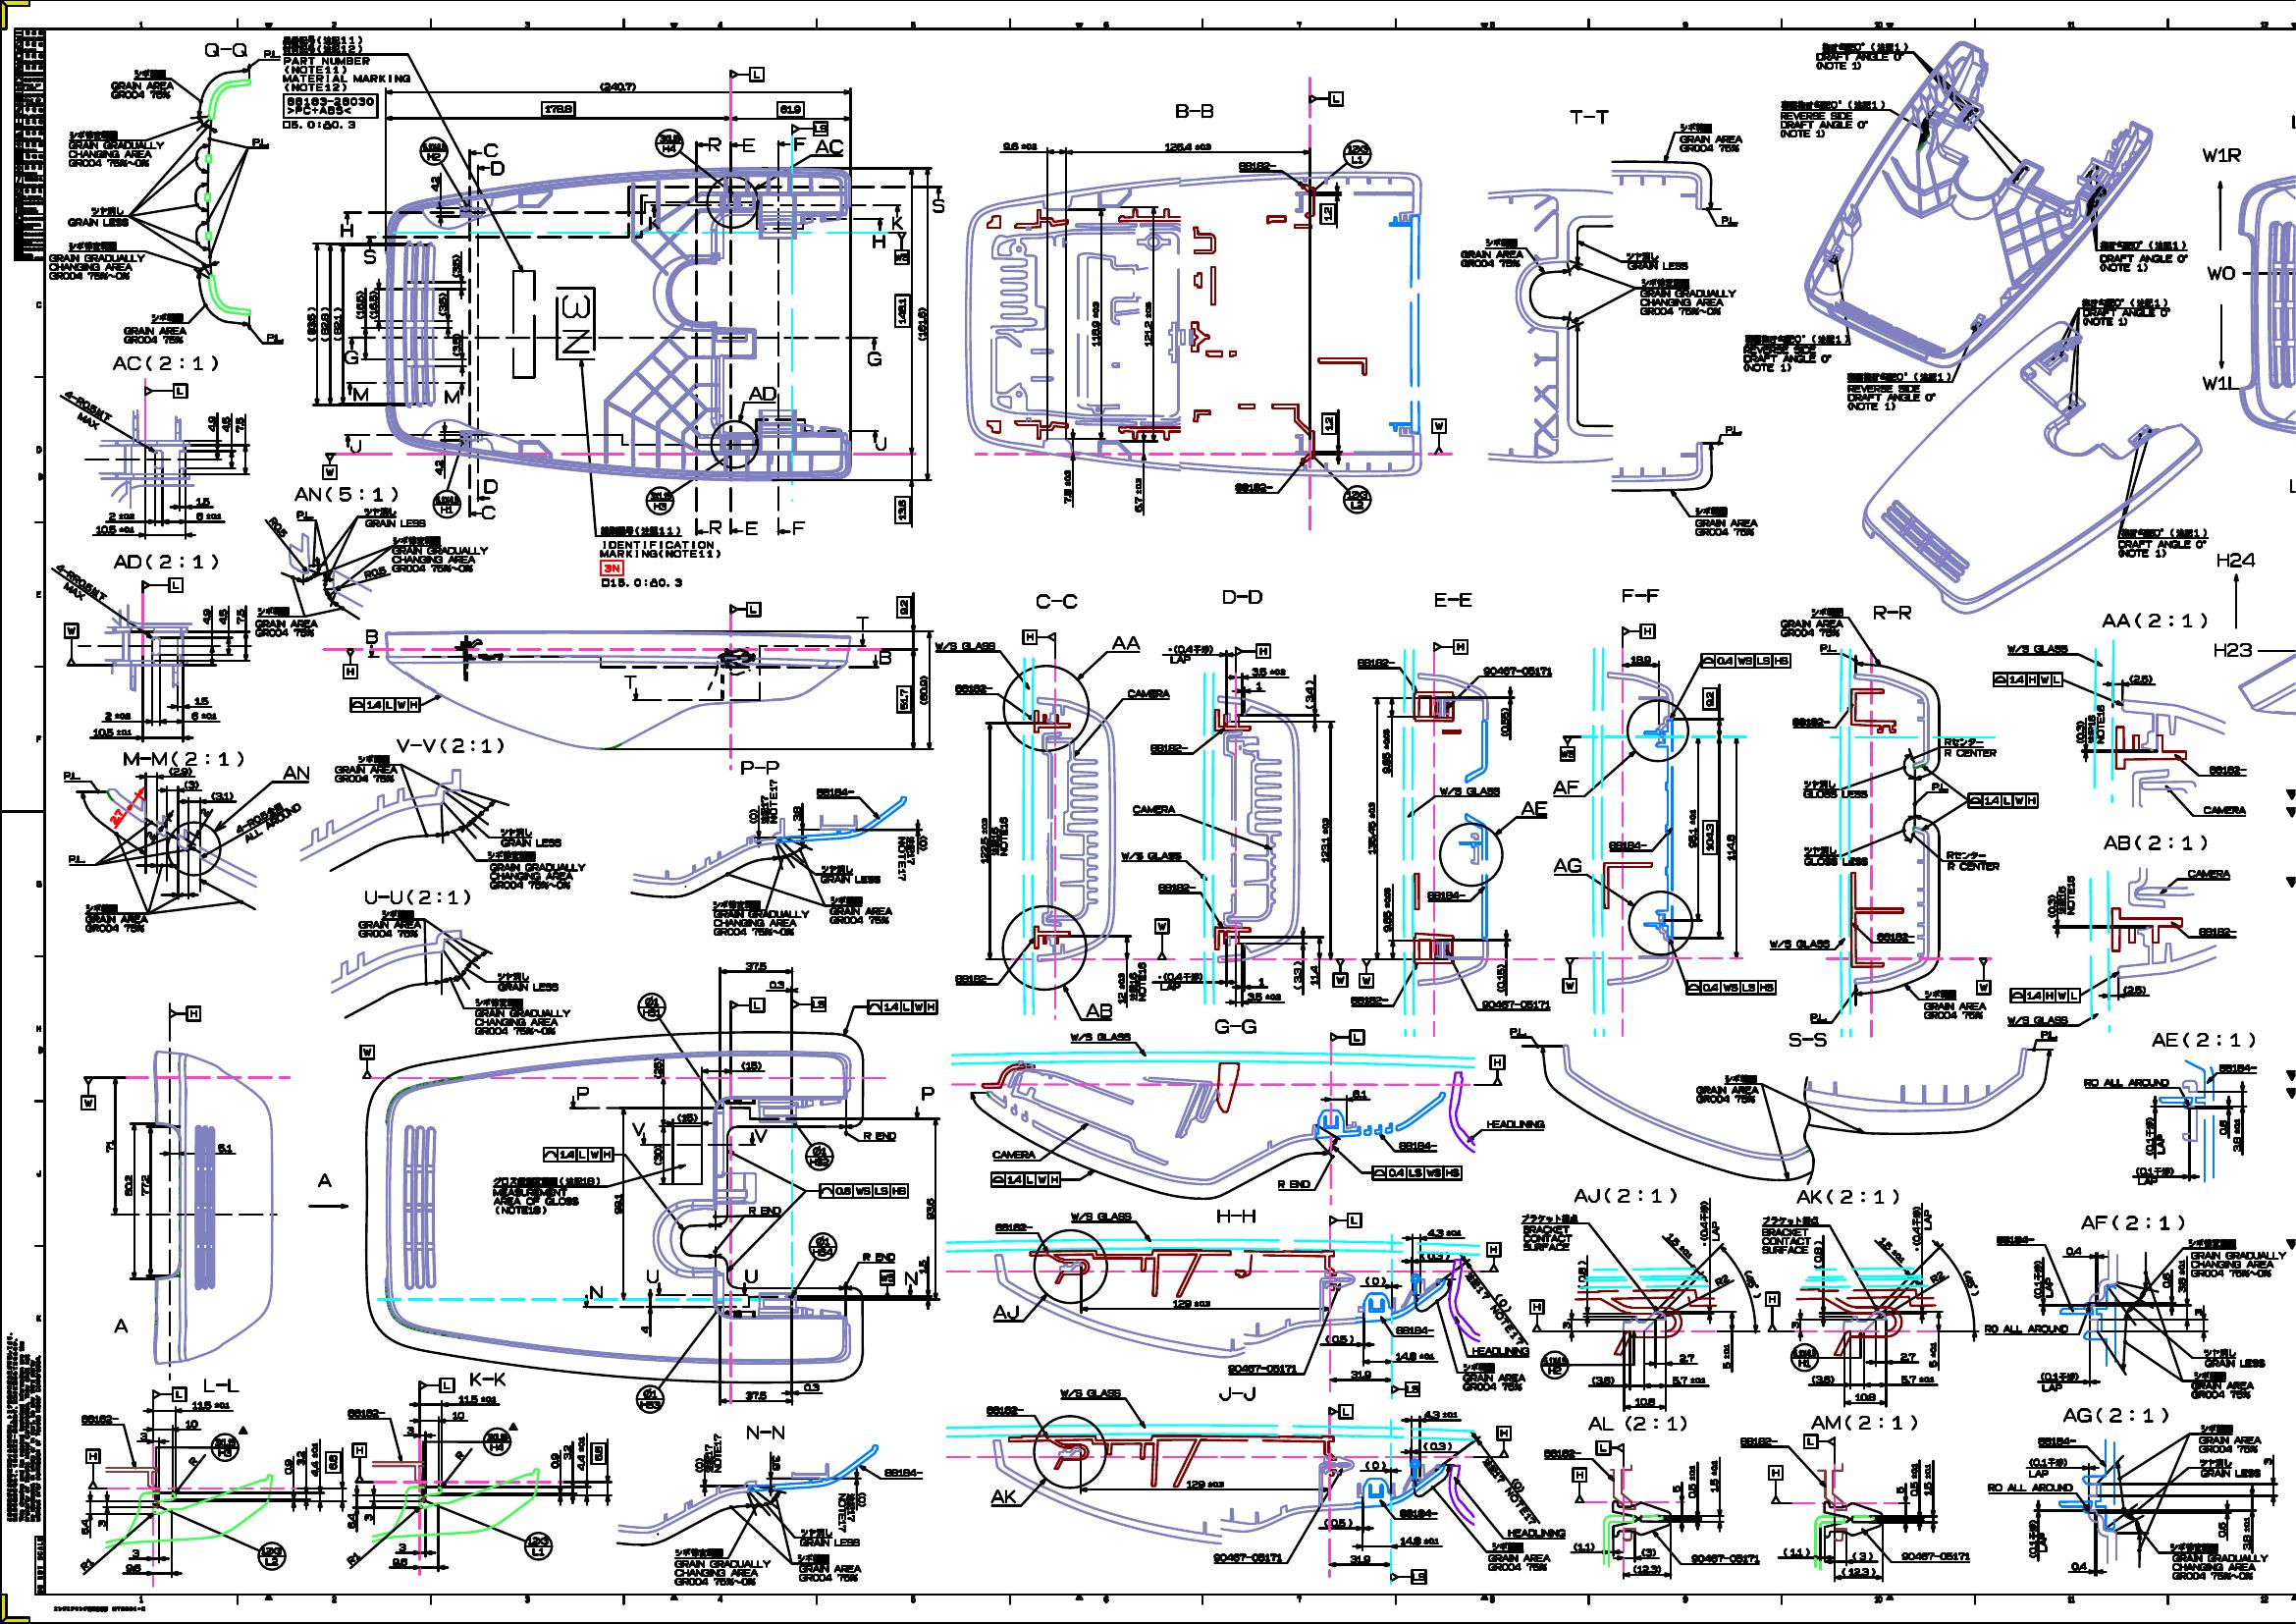anntotation_text: (281, 35, 411, 128), (2201, 146, 2242, 390), (4, 1332, 44, 1526), (599, 524, 720, 587), (1846, 371, 1952, 415), (2213, 550, 2256, 659), (494, 1176, 601, 1216), (1780, 98, 1885, 139), (1743, 332, 1848, 373), (487, 851, 590, 891), (2189, 1237, 2287, 1280), (2168, 1541, 2270, 1582), (67, 128, 165, 169), (47, 241, 146, 281), (673, 1547, 771, 1585), (390, 534, 488, 573), (1639, 278, 1736, 316), (473, 998, 571, 1035), (711, 900, 810, 937), (2117, 526, 2208, 559), (1815, 40, 1910, 72), (2099, 239, 2189, 272), (2080, 297, 2171, 325), (119, 749, 244, 768), (1521, 1213, 1579, 1253), (362, 886, 471, 907), (1693, 1072, 1758, 1106), (109, 353, 220, 373), (1760, 1216, 1818, 1253), (1679, 121, 1743, 155), (1693, 506, 1758, 538), (255, 606, 320, 638), (2080, 1213, 2185, 1232), (2105, 831, 2208, 851), (1797, 1188, 1901, 1207), (123, 313, 186, 344), (1780, 606, 1843, 638), (796, 1552, 863, 1582), (107, 69, 174, 98), (1924, 988, 1989, 1018), (1458, 237, 1523, 267), (355, 909, 420, 939), (112, 554, 221, 571), (395, 736, 504, 754), (2061, 1406, 2170, 1424), (1809, 1413, 1918, 1431), (84, 902, 148, 932), (2198, 1422, 2261, 1452), (293, 485, 399, 503), (1488, 1541, 1549, 1571), (1463, 1362, 1525, 1392), (1572, 1186, 1676, 1204), (334, 754, 397, 782), (829, 895, 892, 923), (2191, 1371, 2254, 1399), (1588, 1415, 1688, 1432), (2099, 613, 2208, 629), (2150, 1032, 2257, 1048), (2201, 1346, 2270, 1369), (232, 808, 302, 830), (1372, 1165, 1463, 1181), (364, 506, 427, 529), (211, 1425, 249, 1462), (1700, 652, 1790, 668), (819, 1183, 908, 1199), (69, 206, 130, 228), (1802, 847, 1867, 868), (1802, 779, 1867, 800), (54, 399, 114, 422), (480, 1422, 520, 1455), (1627, 250, 1690, 271), (499, 826, 562, 847), (991, 1169, 1059, 1188), (497, 972, 559, 993), (1449, 1302, 1541, 1316), (866, 998, 938, 1016), (2010, 986, 2082, 1004), (47, 576, 107, 598), (1945, 849, 1999, 872), (1941, 738, 1999, 759), (1983, 1320, 2069, 1334), (799, 1527, 861, 1547), (2199, 1457, 2261, 1476), (820, 865, 880, 884), (541, 1146, 613, 1162), (1992, 671, 2062, 687), (1686, 981, 1776, 993), (1967, 793, 2036, 808), (1699, 1199, 1722, 1246), (255, 1541, 290, 1571), (2031, 1258, 2055, 1301), (51, 1603, 146, 1613), (1166, 643, 1214, 664), (1788, 1341, 1820, 1373), (350, 698, 420, 712), (1460, 1483, 1551, 1494), (522, 1531, 553, 1561), (430, 490, 462, 520), (634, 1383, 666, 1413), (1342, 139, 1374, 169), (1340, 483, 1372, 513), (1911, 1206, 1932, 1250), (1031, 591, 1079, 610), (759, 777, 778, 824), (896, 835, 915, 882), (418, 135, 448, 165), (645, 485, 675, 515), (1539, 1350, 1569, 1380), (1126, 960, 1147, 1002), (638, 991, 666, 1023), (806, 1232, 838, 1260), (2083, 1077, 2168, 1088), (2027, 1519, 2048, 1561), (1690, 1552, 1762, 1564), (2145, 1116, 2166, 1156), (2027, 1457, 2068, 1478), (1158, 970, 1202, 990), (2057, 872, 2076, 916), (805, 1141, 833, 1171), (653, 128, 683, 156), (32, 1536, 46, 1594), (2040, 1371, 2078, 1392), (703, 1432, 722, 1473), (836, 1492, 856, 1533), (991, 816, 1010, 856), (1059, 1387, 1123, 1399), (1214, 1018, 1258, 1035), (1172, 102, 1216, 120), (1567, 107, 1611, 125), (1987, 1482, 2075, 1490), (350, 1443, 367, 1485), (1226, 1362, 1296, 1373), (1620, 587, 1662, 605), (1481, 998, 1551, 1009), (1433, 591, 1476, 608), (1899, 1552, 1969, 1562), (1507, 1526, 1567, 1538), (1214, 1552, 1282, 1562), (200, 1376, 241, 1394), (2089, 703, 2106, 743), (743, 1425, 787, 1441), (1214, 1207, 1258, 1223), (204, 40, 248, 56), (1871, 605, 1915, 620), (1221, 589, 1265, 605), (63, 622, 79, 666), (2134, 1167, 2173, 1185), (84, 1446, 100, 1489), (1216, 1387, 1258, 1403), (1154, 917, 1170, 960), (2006, 643, 2069, 654), (2004, 1014, 2068, 1025), (935, 640, 998, 650), (141, 576, 183, 592), (1788, 1032, 1830, 1048), (151, 1385, 188, 1403), (1390, 1568, 1426, 1585), (1769, 939, 1830, 949), (1439, 786, 1500, 796), (1484, 1118, 1546, 1128), (740, 759, 780, 775), (1481, 666, 1553, 675), (144, 383, 188, 397), (1309, 90, 1344, 107), (469, 1371, 508, 1387), (1767, 1464, 1783, 1503), (1330, 1211, 1363, 1229), (1621, 622, 1655, 640), (1528, 1299, 1546, 1332), (1432, 638, 1469, 654), (1235, 642, 1272, 657), (1432, 418, 1448, 455), (79, 1411, 119, 1425), (1790, 715, 1830, 729), (1764, 1292, 1778, 1332), (1560, 958, 1576, 993), (1330, 1028, 1365, 1044), (1119, 851, 1182, 859), (729, 997, 764, 1012), (791, 997, 826, 1012), (1070, 1211, 1133, 1220), (1068, 1032, 1131, 1040), (169, 1005, 200, 1023), (1572, 1468, 1588, 1503), (954, 682, 993, 696), (79, 1076, 95, 1109), (1022, 629, 1056, 645), (987, 1487, 1017, 1504), (1391, 1380, 1421, 1397), (813, 139, 843, 156), (416, 1378, 453, 1392), (360, 1044, 374, 1081), (993, 1220, 1035, 1232), (791, 121, 827, 135), (1472, 1346, 1530, 1355), (1490, 1053, 1505, 1084), (1802, 1434, 1834, 1450), (815, 786, 856, 798), (1542, 1446, 1583, 1459), (748, 383, 776, 401), (729, 67, 764, 81), (1551, 779, 1579, 796), (1558, 735, 1576, 763), (727, 601, 762, 615), (991, 1148, 1036, 1158), (1551, 858, 1581, 874), (1332, 958, 1347, 988), (1084, 1002, 1114, 1018), (281, 765, 311, 780), (1976, 960, 1990, 993), (894, 232, 908, 265), (2203, 805, 2247, 816), (1358, 958, 1374, 986), (1112, 634, 1140, 650), (1131, 803, 1173, 814), (1156, 882, 1198, 893), (880, 1269, 896, 1297), (991, 1304, 1019, 1320), (2036, 1436, 2078, 1446), (346, 1408, 386, 1418), (984, 1404, 1024, 1415), (1397, 1141, 1437, 1151), (1607, 840, 1648, 851), (1349, 995, 1390, 1005), (1233, 482, 1274, 492), (2208, 765, 2249, 775), (1996, 1234, 2036, 1244), (1486, 1241, 1500, 1271), (343, 649, 357, 678), (321, 453, 337, 480), (1521, 800, 1548, 816), (1876, 932, 1915, 942), (1426, 889, 1465, 900), (1149, 742, 1188, 752), (1237, 160, 1275, 170), (1595, 1441, 1623, 1455), (1497, 1425, 1509, 1457), (1275, 1178, 1312, 1188), (864, 1128, 896, 1141), (1126, 689, 1170, 698), (2187, 868, 2231, 877), (2217, 1063, 2259, 1072), (1330, 1404, 1353, 1420), (952, 974, 993, 982), (1739, 1436, 1780, 1445), (863, 1251, 896, 1262), (884, 1468, 922, 1476), (1395, 1325, 1433, 1334), (2198, 926, 2236, 935), (1356, 657, 1393, 666), (337, 221, 355, 239), (747, 1206, 782, 1214), (743, 1267, 761, 1285), (316, 1171, 332, 1190), (344, 348, 360, 366), (488, 160, 504, 178), (348, 438, 364, 455), (481, 478, 497, 496), (481, 503, 497, 520), (741, 520, 757, 538), (875, 436, 891, 453), (889, 214, 905, 232), (931, 197, 947, 214), (704, 135, 720, 153), (740, 137, 757, 153), (791, 135, 806, 153), (112, 1316, 128, 1334), (752, 1127, 769, 1142), (903, 1269, 919, 1287), (364, 627, 379, 645), (362, 250, 378, 265), (353, 387, 369, 402), (444, 388, 460, 404), (483, 141, 499, 156), (706, 520, 722, 536), (791, 518, 806, 534), (868, 350, 884, 366), (871, 232, 887, 248), (631, 1120, 646, 1135), (645, 1267, 661, 1283), (588, 1285, 604, 1301), (856, 615, 871, 631), (877, 650, 892, 666), (624, 673, 639, 689), (67, 852, 86, 865), (2040, 1028, 2059, 1040), (249, 137, 271, 148), (265, 332, 286, 343), (1818, 642, 1839, 652), (574, 1084, 588, 1100), (262, 49, 281, 60), (1720, 214, 1739, 225), (295, 510, 314, 520), (921, 1086, 935, 1100), (1725, 424, 1743, 434), (1507, 1026, 1527, 1035), (61, 772, 81, 780), (1931, 782, 1948, 791), (1351, 1090, 1367, 1098), (1809, 1012, 1827, 1019)
dimension_text: (1700, 819, 1720, 854), (894, 295, 912, 327), (1165, 141, 1212, 151), (1383, 886, 1393, 933), (978, 817, 989, 865), (776, 102, 805, 120), (1367, 800, 1375, 856), (1142, 301, 1152, 346), (1091, 301, 1101, 346), (93, 726, 132, 738), (541, 102, 574, 116), (894, 497, 912, 524), (1186, 1478, 1226, 1489), (1321, 817, 1330, 865), (1383, 726, 1391, 773), (896, 685, 912, 712), (1876, 1244, 1910, 1257), (599, 81, 638, 91), (1700, 687, 1718, 710), (1660, 1239, 1697, 1250), (1686, 1462, 1697, 1499), (1001, 141, 1038, 151), (1133, 476, 1144, 513), (1841, 1566, 1876, 1577), (1063, 469, 1073, 504), (917, 306, 928, 341), (306, 306, 316, 341), (2177, 1258, 2187, 1294), (309, 1441, 320, 1476), (1398, 1536, 1440, 1545), (1245, 991, 1281, 1002), (1964, 1269, 1976, 1299), (1746, 1269, 1758, 1299), (1632, 1562, 1662, 1575), (1423, 1439, 1453, 1452), (1291, 960, 1303, 990), (95, 524, 135, 533), (457, 1394, 497, 1403), (1398, 1510, 1439, 1519), (1172, 1299, 1212, 1308), (1395, 1352, 1435, 1360), (1688, 808, 1697, 849), (1672, 1374, 1706, 1385), (1426, 1227, 1460, 1237), (2231, 1118, 2242, 1151), (191, 1401, 230, 1410), (1319, 204, 1337, 223), (1321, 413, 1337, 434), (325, 1452, 341, 1473), (1498, 707, 1509, 738), (1116, 972, 1126, 1004), (896, 596, 912, 617), (1576, 1260, 1586, 1290), (1725, 831, 1736, 861), (917, 675, 928, 705), (2242, 1515, 2250, 1550), (1901, 1374, 1936, 1383), (1709, 1459, 1718, 1494), (332, 306, 341, 341), (320, 306, 329, 341), (576, 1436, 585, 1471), (1423, 1410, 1458, 1418), (1251, 666, 1286, 675), (590, 1443, 606, 1462), (1927, 1341, 1938, 1369), (1421, 1250, 1449, 1260), (1303, 680, 1314, 708), (104, 710, 132, 721), (1924, 1462, 1932, 1496), (1910, 1462, 1918, 1496), (1813, 1241, 1823, 1267), (1590, 1374, 1616, 1385), (195, 510, 221, 520), (1497, 961, 1505, 993), (190, 710, 216, 721), (369, 290, 378, 320), (355, 290, 364, 320), (1323, 1519, 1353, 1527), (1325, 1334, 1354, 1343), (451, 332, 462, 357), (2122, 984, 2147, 995), (2047, 893, 2057, 917), (2075, 719, 2085, 743), (2127, 673, 2152, 684), (107, 511, 135, 520), (740, 1060, 762, 1070), (745, 961, 768, 972), (105, 810, 125, 823), (1783, 1547, 1809, 1555), (1722, 1343, 1730, 1369), (451, 253, 460, 279), (123, 1172, 132, 1199), (362, 568, 388, 576), (1634, 1396, 1655, 1406), (745, 1390, 766, 1401), (2064, 1244, 2082, 1257), (1850, 1552, 1874, 1561), (343, 1552, 360, 1564), (1349, 1369, 1374, 1378), (169, 766, 193, 775), (1927, 1271, 1946, 1281), (283, 1457, 293, 1476), (346, 1512, 357, 1531), (803, 1381, 822, 1392), (678, 1113, 697, 1123), (1811, 1374, 1834, 1383), (1572, 1541, 1595, 1550), (437, 292, 446, 315), (613, 1192, 622, 1214), (653, 1056, 662, 1079), (926, 1197, 935, 1220), (1349, 1554, 1372, 1562), (1365, 1461, 1388, 1469), (211, 791, 234, 800), (265, 522, 288, 531), (1855, 1392, 1876, 1401), (234, 415, 244, 432), (548, 1452, 559, 1469), (771, 1454, 782, 1471), (141, 1174, 149, 1195), (653, 1144, 662, 1165), (1630, 656, 1651, 664), (791, 805, 801, 823), (1507, 1480, 1527, 1489), (1493, 1299, 1513, 1308), (1365, 1276, 1384, 1285), (1310, 965, 1319, 984), (2069, 1561, 2085, 1571), (1641, 1547, 1657, 1557), (295, 1450, 306, 1466), (184, 1418, 200, 1429), (79, 1519, 90, 1534), (434, 459, 444, 475), (216, 1142, 232, 1153), (917, 1258, 928, 1274), (195, 496, 211, 506), (2161, 1271, 2170, 1288), (2217, 1520, 2226, 1538), (1899, 1352, 1917, 1360), (221, 415, 230, 432), (696, 1457, 704, 1475), (857, 1490, 866, 1508), (453, 1448, 466, 1461), (1715, 1276, 1730, 1285), (125, 1562, 141, 1571), (77, 1561, 93, 1570), (430, 176, 439, 192), (392, 1557, 408, 1566), (769, 981, 785, 990), (919, 835, 928, 851), (748, 808, 757, 824), (183, 780, 199, 789), (193, 696, 209, 705), (202, 608, 211, 624), (218, 608, 227, 624), (235, 608, 244, 624), (395, 1541, 408, 1552), (1679, 1353, 1693, 1362), (207, 415, 214, 432), (2219, 1118, 2226, 1135), (564, 1443, 571, 1461), (105, 1139, 114, 1153), (199, 807, 209, 817), (451, 1410, 464, 1418), (2263, 1455, 2271, 1466), (1790, 1318, 1799, 1329), (130, 1548, 141, 1557), (362, 1512, 372, 1520), (1254, 680, 1263, 691), (146, 831, 156, 840), (1895, 1485, 1904, 1494), (1562, 1320, 1570, 1329), (1672, 1483, 1681, 1492), (139, 1432, 148, 1441), (188, 1455, 197, 1464), (97, 1519, 105, 1527), (406, 1425, 415, 1434), (639, 1325, 648, 1334), (1258, 977, 1265, 986)
object: (364, 1026, 868, 1387), (383, 163, 856, 482), (961, 170, 1423, 478), (1801, 39, 2154, 369), (1859, 320, 2205, 615), (966, 1048, 1476, 1202), (1484, 160, 1716, 496), (1535, 1044, 2050, 1181), (993, 1237, 1483, 1355), (991, 1425, 1479, 1543), (383, 629, 854, 750), (151, 1049, 278, 1364), (2090, 696, 2220, 981), (1839, 659, 1943, 995), (632, 791, 910, 900), (1398, 673, 1491, 984), (1198, 694, 1300, 965), (1592, 670, 1676, 986), (620, 1443, 878, 1545), (1021, 694, 1119, 961), (79, 789, 256, 909), (302, 766, 494, 863), (193, 69, 255, 330), (105, 1464, 274, 1547), (371, 1459, 541, 1540), (1576, 1265, 1718, 1357), (1797, 1265, 1936, 1357), (330, 926, 483, 1007), (98, 410, 193, 499), (2057, 1438, 2119, 1562), (1813, 1462, 1883, 1570), (2159, 1056, 2215, 1183), (1602, 1464, 1672, 1562), (288, 533, 371, 615), (105, 605, 190, 685), (2061, 1250, 2119, 1366)
title_block: (12, 28, 44, 260)
